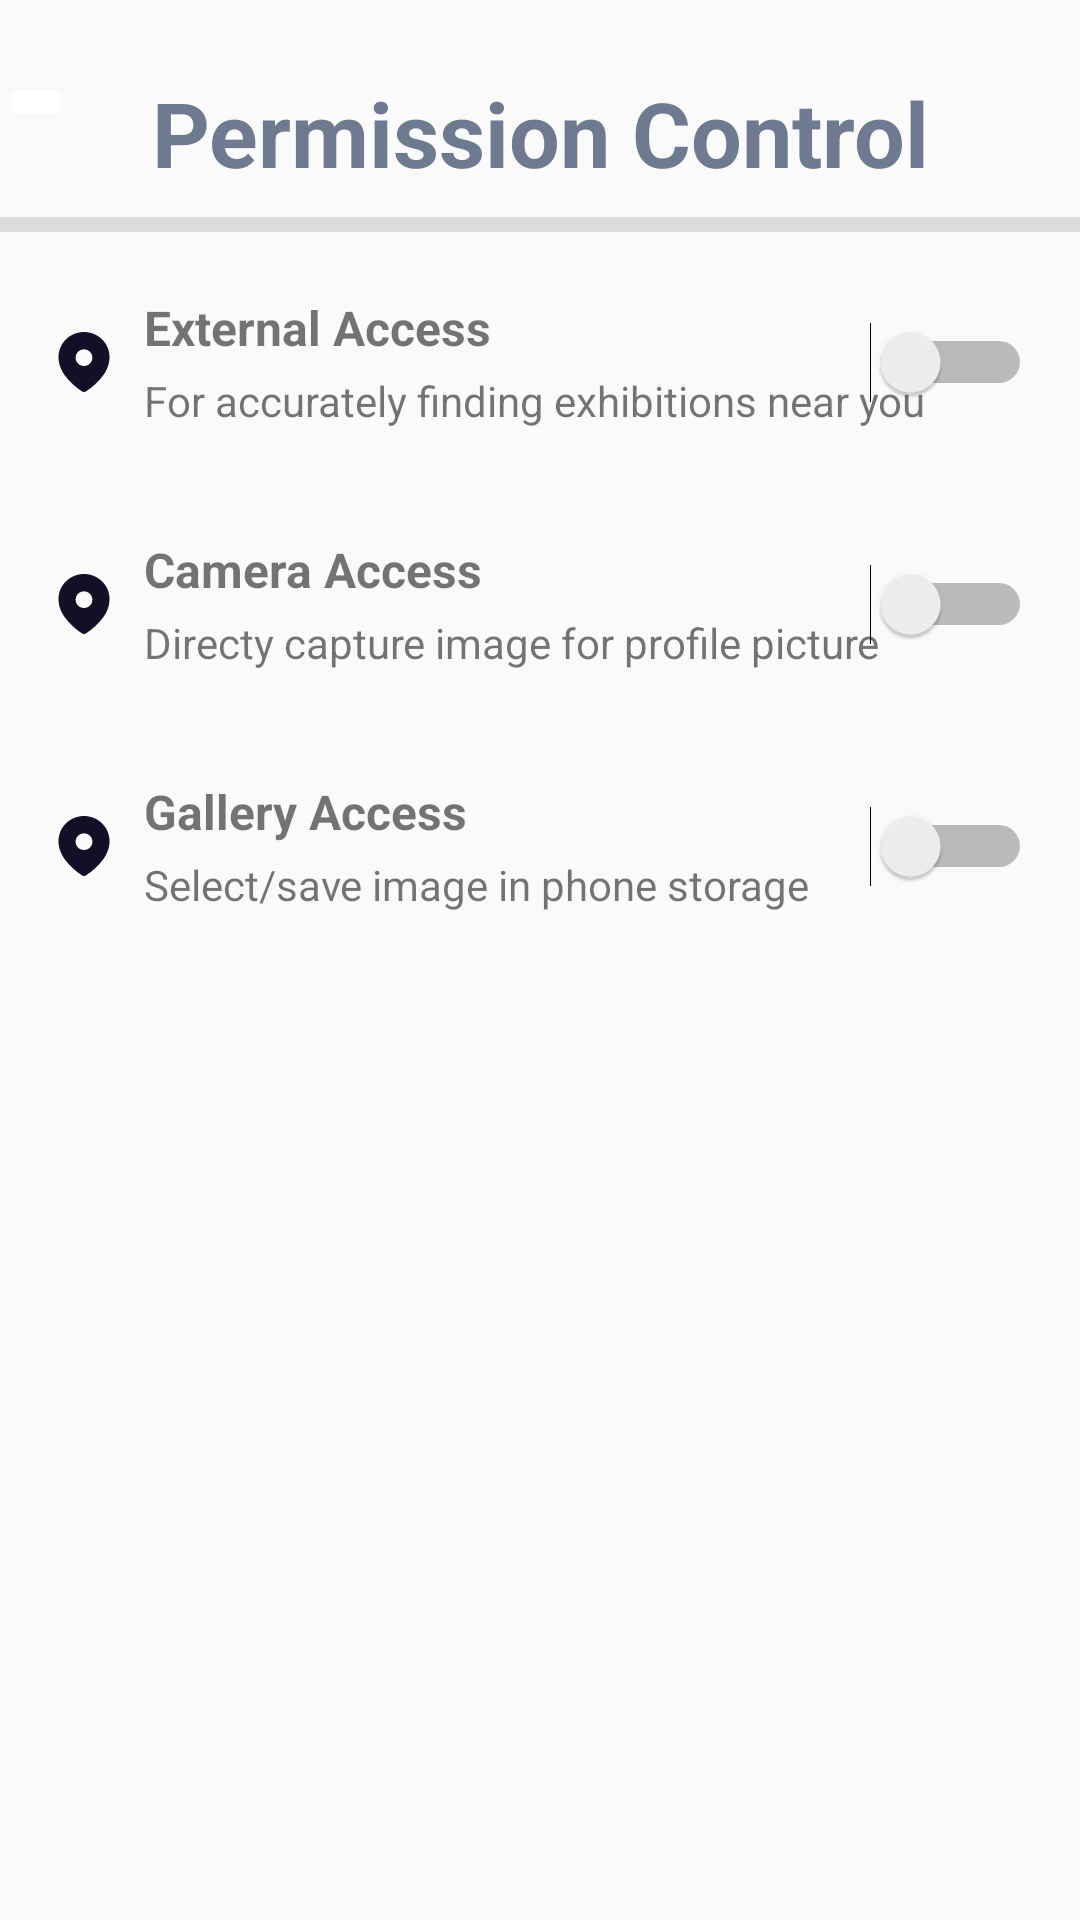

Where to tap for icons on this 1080 × 1920 app screen, as (x=x, y=y):
savedaddress: (x=84, y=362), (x=84, y=604), (x=84, y=846)
